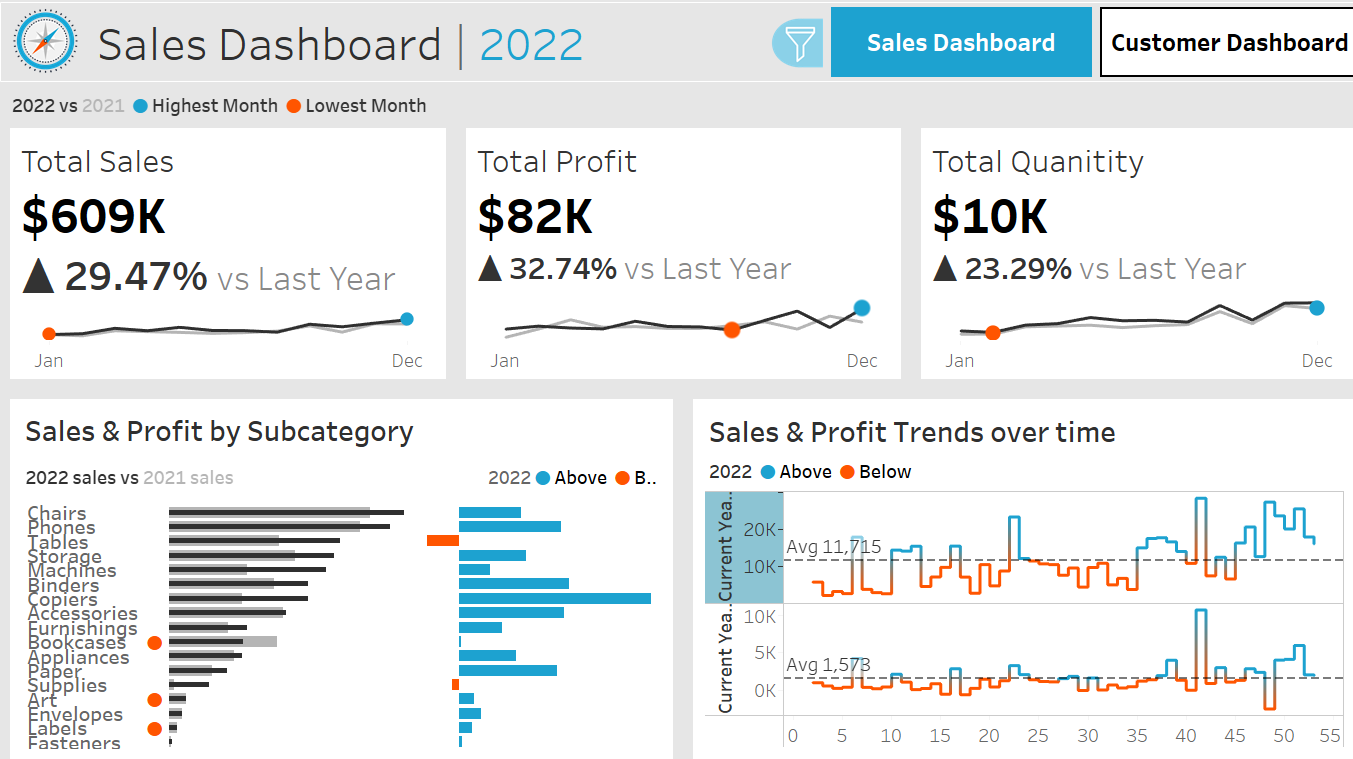

The page's visual inventory and layout, read from the dashboard file:
{"tool":"tableau","page":{"name":"Sales Dashboard","canvas":[1366,768],"ordinal":1},"visuals":[{"type":"image","param":"Image/Icon - Logo.png","box":[1,1,88,78]},{"type":"text","box":[89,1,738,78]},{"type":"dashboard-object","box":[827,1,269,78]},{"type":"dashboard-object","box":[1096,1,269,78]},{"type":"blank","box":[1185,10,170,56]},{"type":"dashboard-object","box":[770,11,53,60]},{"type":"text","box":[1185,66,170,76]},{"type":"worksheet","title":"Legend KPI","mark":"Automatic","box":[0,80,1366,46]},{"type":"worksheet","title":"Total Sales","mark":"Line","rows":["Calculation_1021472690857701376"],"cols":["Order Date"],"box":[0,126,456,261]},{"type":"worksheet","title":"Total Profit","mark":"Automatic","rows":["Calculation_1119988933693747200"],"cols":["Order Date"],"box":[456,126,455,261]},{"type":"worksheet","title":"Total Quantity","mark":"Automatic","rows":["Calculation_1124774008833200134"],"cols":["Order Date"],"box":[911,126,455,261]},{"type":"parameter","param":"[Parameters].[Parameter 1]","box":[1185,142,170,60]},{"type":"blank","box":[1185,202,170,67]},{"type":"text","box":[1185,269,170,33]},{"type":"filter","title":"Total Sales","param":"[federated.1owr7110npnmkd1c2qhj91joo7z8].[none:Category:nk]","box":[1185,302,170,70]},{"type":"filter","title":"Total Sales","param":"[federated.1owr7110npnmkd1c2qhj91joo7z8].[none:Sub-Category:nk]","box":[1185,372,170,70]},{"type":"text","box":[17,404,649,47]},{"type":"text","box":[701,405,647,47]},{"type":"blank","box":[1185,442,170,71]},{"type":"worksheet","title":"Legend Subcategory","mark":"Automatic","box":[17,451,463,48]},{"type":"text","box":[480,451,186,48]},{"type":"text","box":[701,452,647,33]},{"type":"worksheet","title":"Weekly Trends","mark":"Automatic","rows":["Calculation_1662954162478706688","Calculation_2188186470017093632"],"cols":["Order Date"],"box":[701,485,647,265]},{"type":"worksheet","title":"Subcategory Comparasion","mark":"Bar","rows":["Sub-Category","Calculation_1690820187145707520"],"cols":["Current Year Sales (copy)_1662954162479247361","Calculation_1662954162478706688","Calculation_2188186470017093632"],"box":[17,499,649,252]},{"type":"text","box":[1185,513,170,33]},{"type":"filter","title":"Total Sales","param":"[federated.1owr7110npnmkd1c2qhj91joo7z8].[none:Region:nk]","box":[1185,546,170,70]},{"type":"filter","title":"Total Sales","param":"[federated.1owr7110npnmkd1c2qhj91joo7z8].[none:State:nk]","box":[1185,616,170,70]},{"type":"filter","title":"Total Sales","param":"[federated.1owr7110npnmkd1c2qhj91joo7z8].[none:City:nk]","box":[1185,686,170,70]}]}

Visuals, with their boxes in screenshot pixels (x1, y1, x2, y2), scaled from the page's 1366x768 canvas onto the 1353x759 screenshot:
image: 1,1,88,78
text: 88,1,819,78
dashboard-object: 819,1,1086,78
dashboard-object: 1086,1,1352,78
blank: 1174,10,1342,65
dashboard-object: 763,11,815,70
text: 1174,65,1342,140
"Legend KPI" worksheet: 0,79,1352,125
"Total Sales" worksheet (Line marks): 0,125,452,382
"Total Profit" worksheet: 452,125,902,382
"Total Quantity" worksheet: 902,125,1352,382
parameter: 1174,140,1342,200
blank: 1174,200,1342,266
text: 1174,266,1342,298
"Total Sales" filter: 1174,298,1342,368
"Total Sales" filter: 1174,368,1342,437
text: 17,399,660,446
text: 694,400,1335,447
blank: 1174,437,1342,507
"Legend Subcategory" worksheet: 17,446,475,493
text: 475,446,660,493
text: 694,447,1335,479
"Weekly Trends" worksheet: 694,479,1335,741
"Subcategory Comparasion" worksheet (Bar marks): 17,493,660,742
text: 1174,507,1342,540
"Total Sales" filter: 1174,540,1342,609
"Total Sales" filter: 1174,609,1342,678
"Total Sales" filter: 1174,678,1342,747
